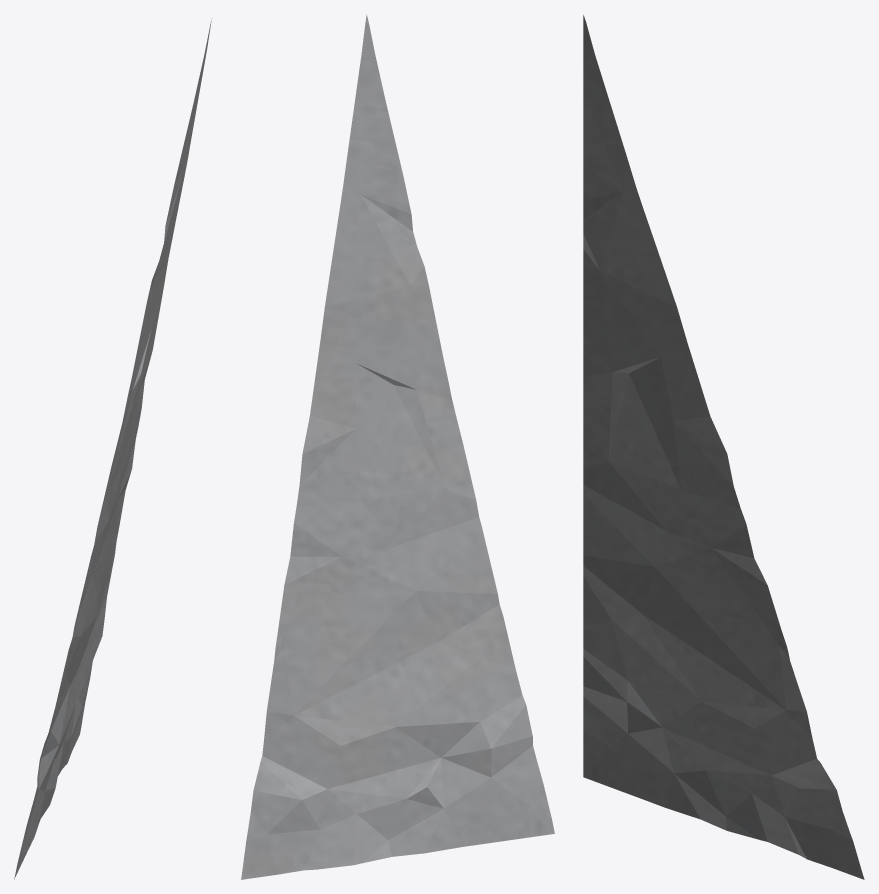
3 renders of one model, left to right at view 1: azimuth 30°, elevation 25°; view 2: azimuth 150°, elevation 25°; view 3: azimuth 270°, elevation 25°, orthographic. The views are drawn at different scales.
Bounding box in the file's own units: 0.1782 × 0.7004 × 0.2063.
Materials: 1 (1 with a texture image).
